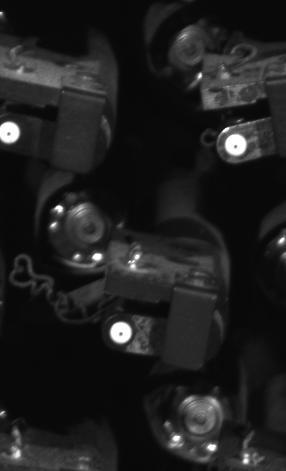fiber: (105, 319, 139, 348), (1, 116, 28, 151), (222, 132, 251, 161)
